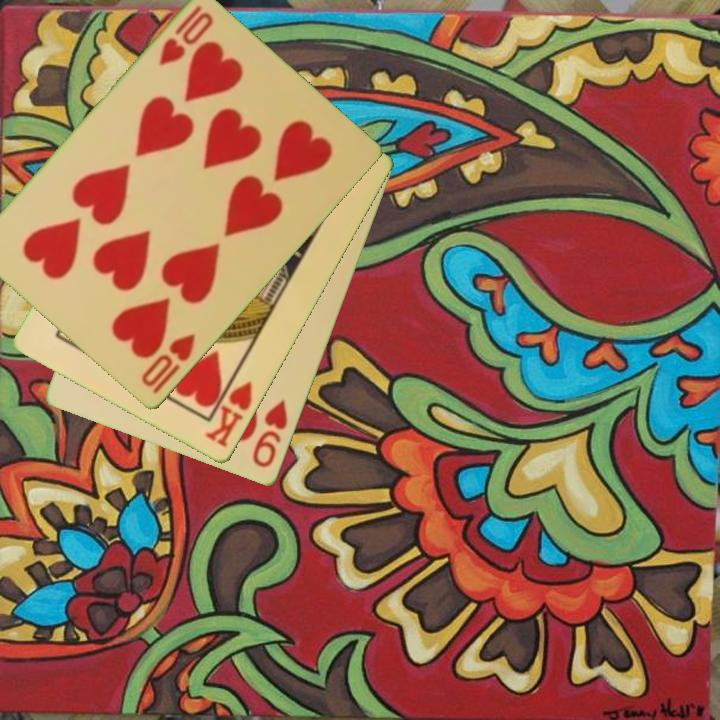10h: (137, 330, 199, 398), (155, 2, 217, 70)
9h: (249, 397, 291, 471)
Kh: (201, 367, 256, 451)
